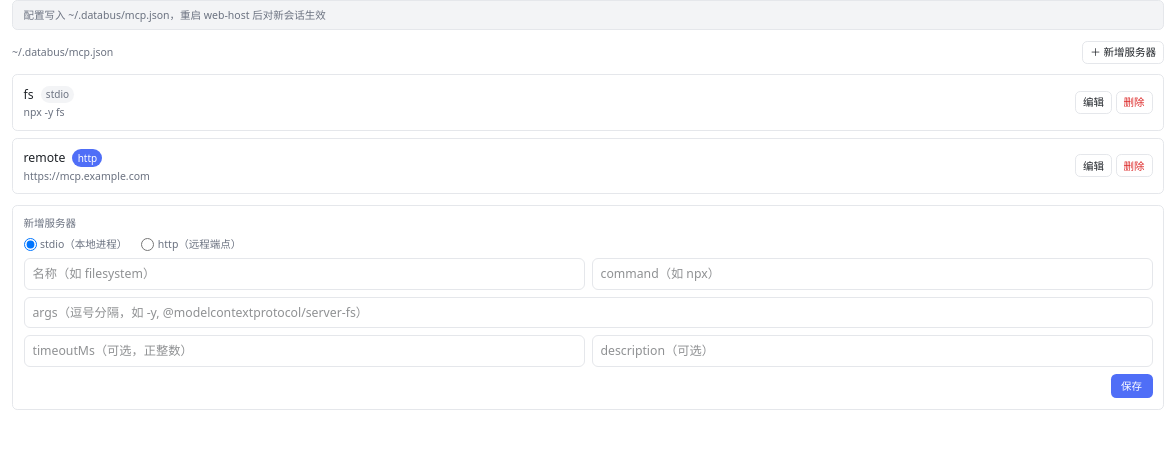
Scenario: McpPanel 关键交互 › 新增表单：填写 → 保存 → mcp.upsert 载荷与表单输入一致
Expected: the text "fs" is shown, [24,86,34,103]
Click the button "＋ 新增服务器": click(1123, 52) [1082,40,1164,64]
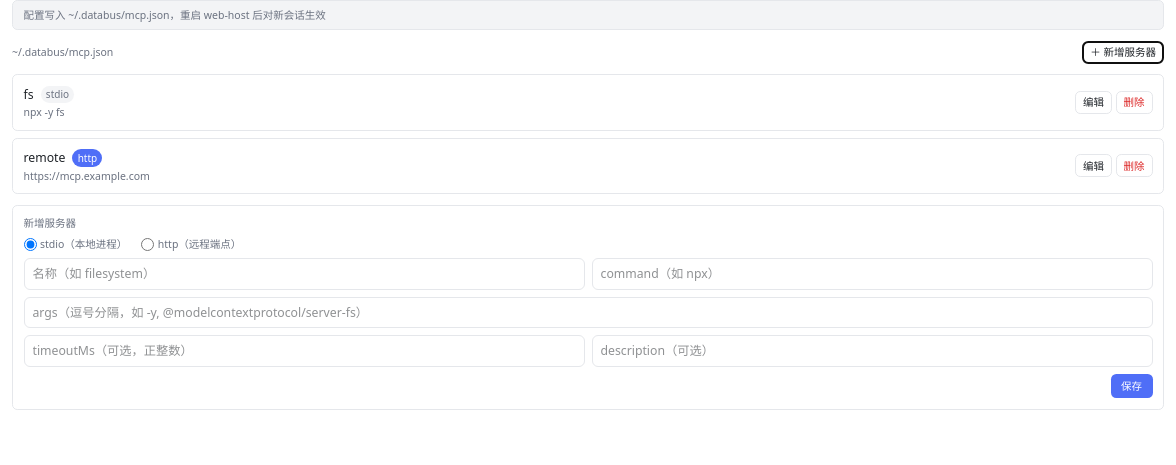
In the field with placeholder "名称（如 filesystem）": (304, 274) [24,258,584,290], type "fs2"
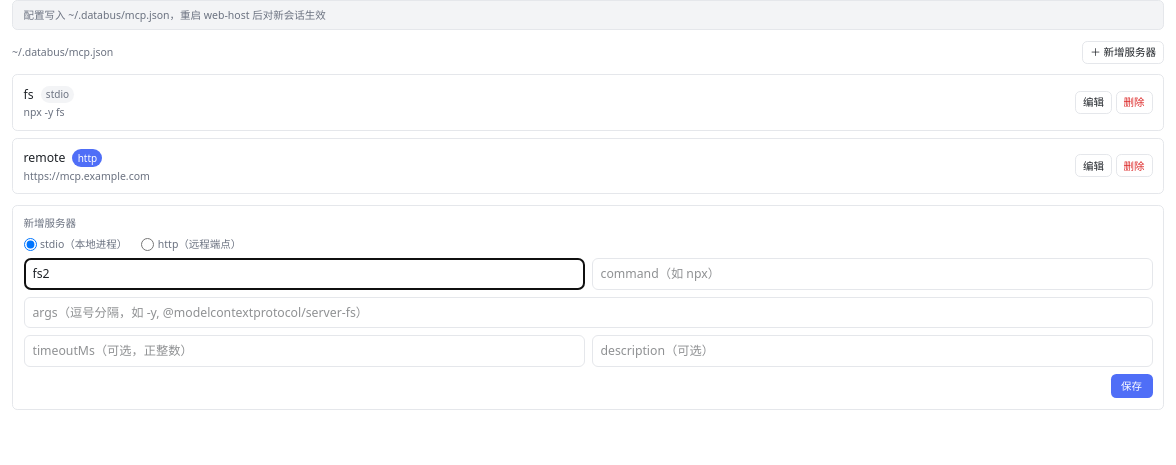
In the field with placeholder "command（如 npx）": (872, 274) [592,258,1152,290], type "npx"
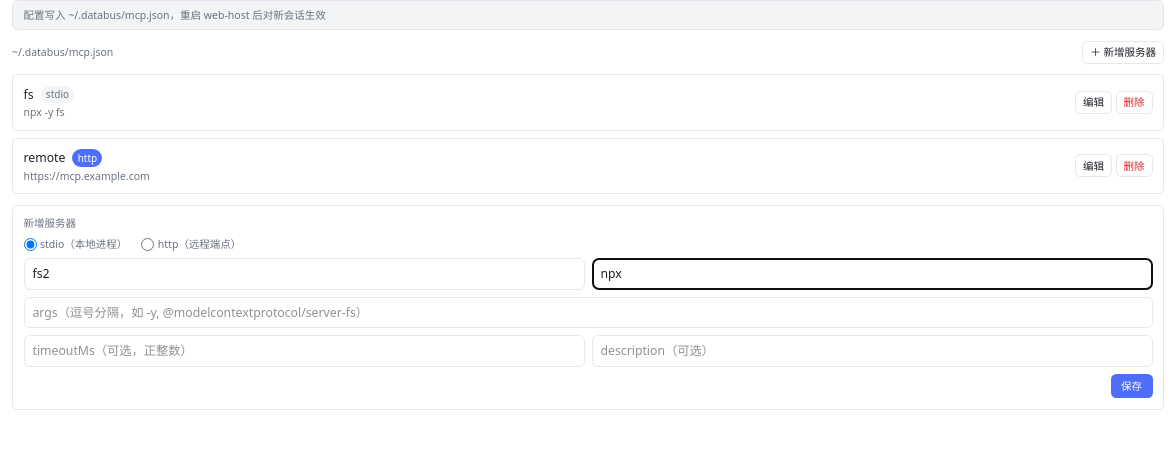
In the field with placeholder "args（逗号分隔，如 -y, @modelcontextprotocol/server-fs）": (588, 312) [24,297,1152,328], type "-y, @x/fs2"
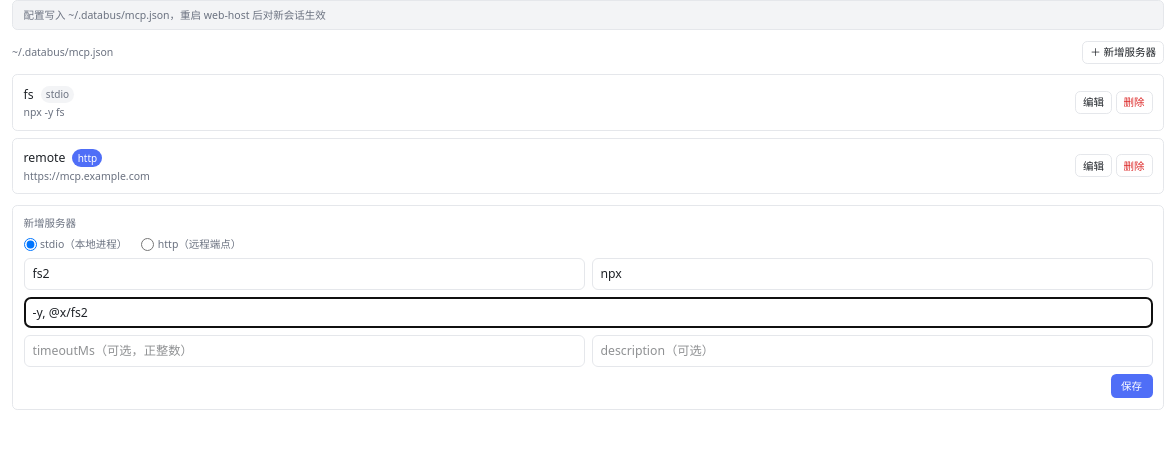
Click the button "保存": click(1132, 386) [1110,374,1152,398]
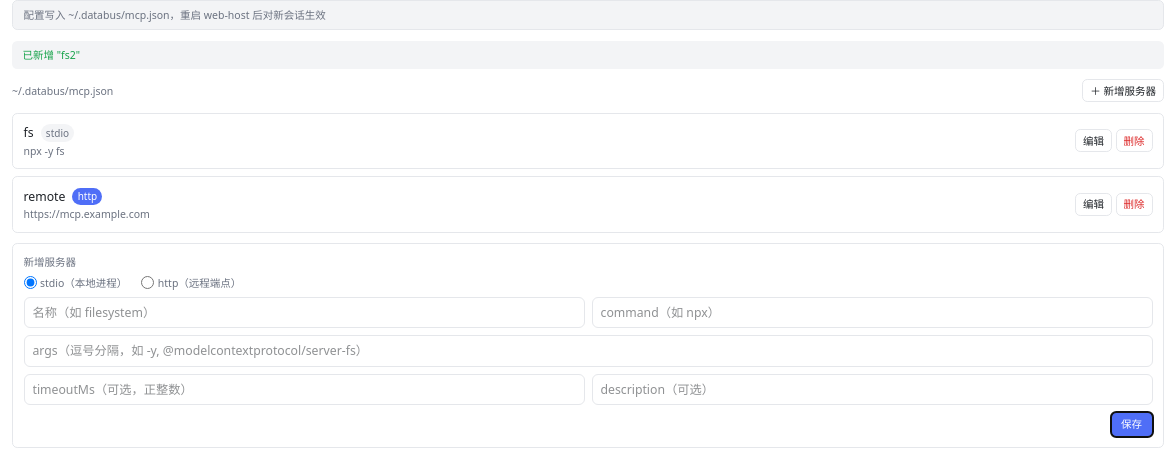
Now the text "已新增 \"fs2\"" is shown, box [12,40,1164,68]
